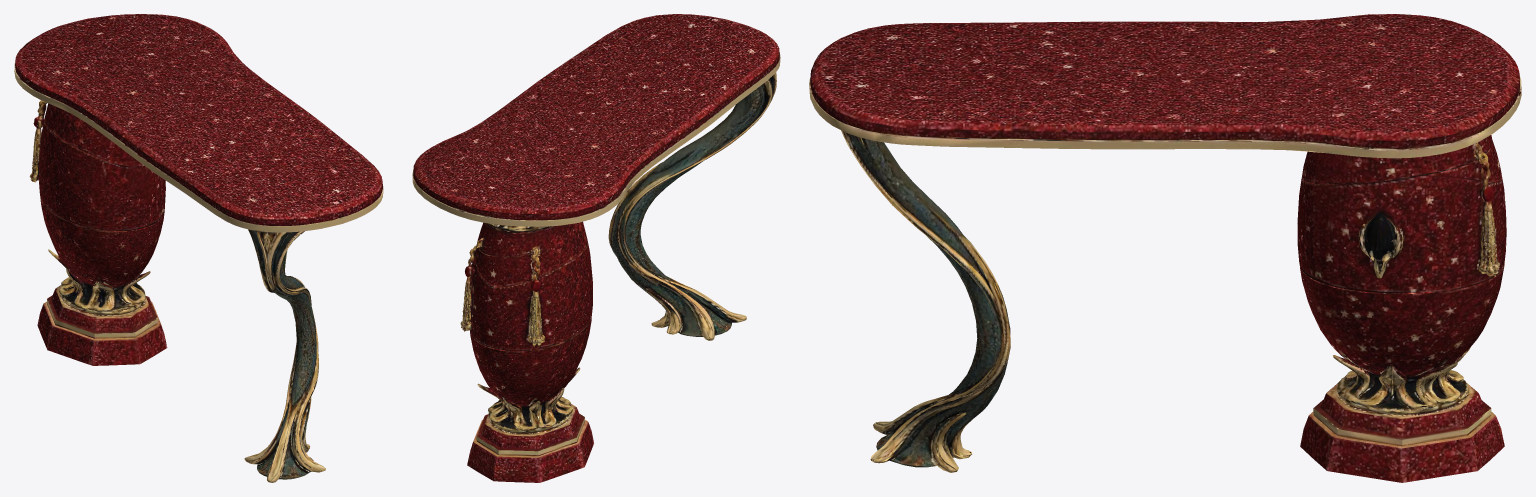
Rendered from NX-07_writing_desk_game.glb.
The picture shows the model from 3 angles, left to right: view 1: azimuth 30°, elevation 25°; view 2: azimuth 150°, elevation 25°; view 3: azimuth 270°, elevation 25°; orthographic projection. The views are drawn at different scales.
Visible parts, largest first — view 1: NX-07_writing_desk; view 2: NX-07_writing_desk; view 3: NX-07_writing_desk.
Part boxes in pixels (x1,y1,x2,y2): NX-07_writing_desk: (14, 14, 383, 482); NX-07_writing_desk: (412, 14, 780, 482); NX-07_writing_desk: (809, 14, 1521, 482).
Bounding box in the file's own units: 0.5378 × 0.7603 × 1.27.
1 material, 1 textured.
